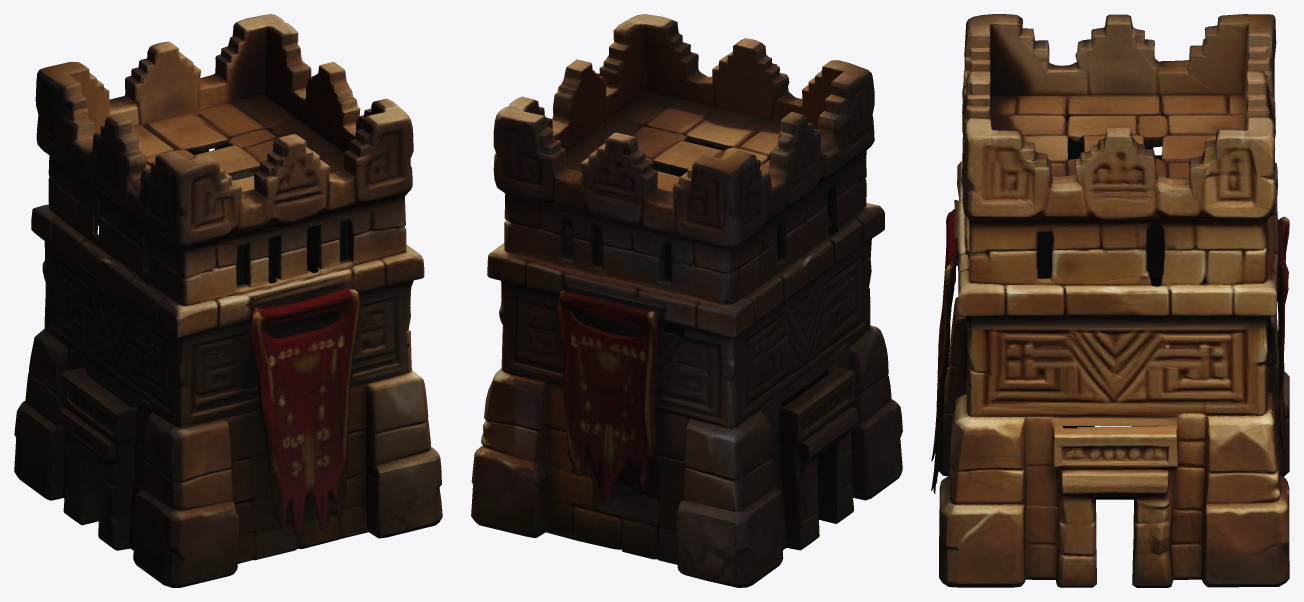
File: tower.glb
The picture shows the model from 3 angles, left to right: view 1: azimuth 30°, elevation 25°; view 2: azimuth 150°, elevation 25°; view 3: azimuth 270°, elevation 25°; orthographic projection. The views are drawn at different scales.
Visible parts, largest first — view 1: world; view 2: world; view 3: world.
Part boxes in pixels (x1,y1,x2,y2): world: (14, 14, 442, 587); world: (471, 14, 902, 587); world: (931, 14, 1289, 587).
Size of the model in its own units: 0.753 by 1 by 0.7381.
1 material, 1 textured.
